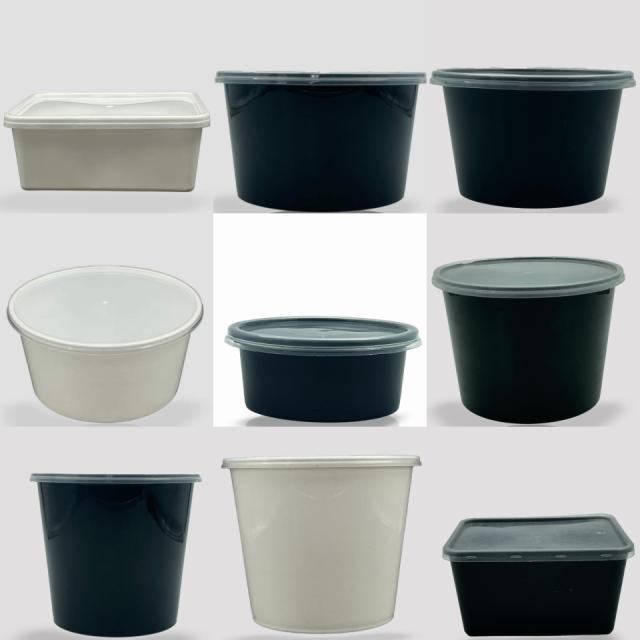Single-Use-Plastic: (222, 455, 421, 633), (432, 258, 625, 422), (8, 266, 204, 422), (215, 71, 426, 211), (430, 68, 635, 208), (31, 474, 201, 636), (442, 514, 635, 636), (225, 316, 421, 422), (4, 92, 210, 191)
